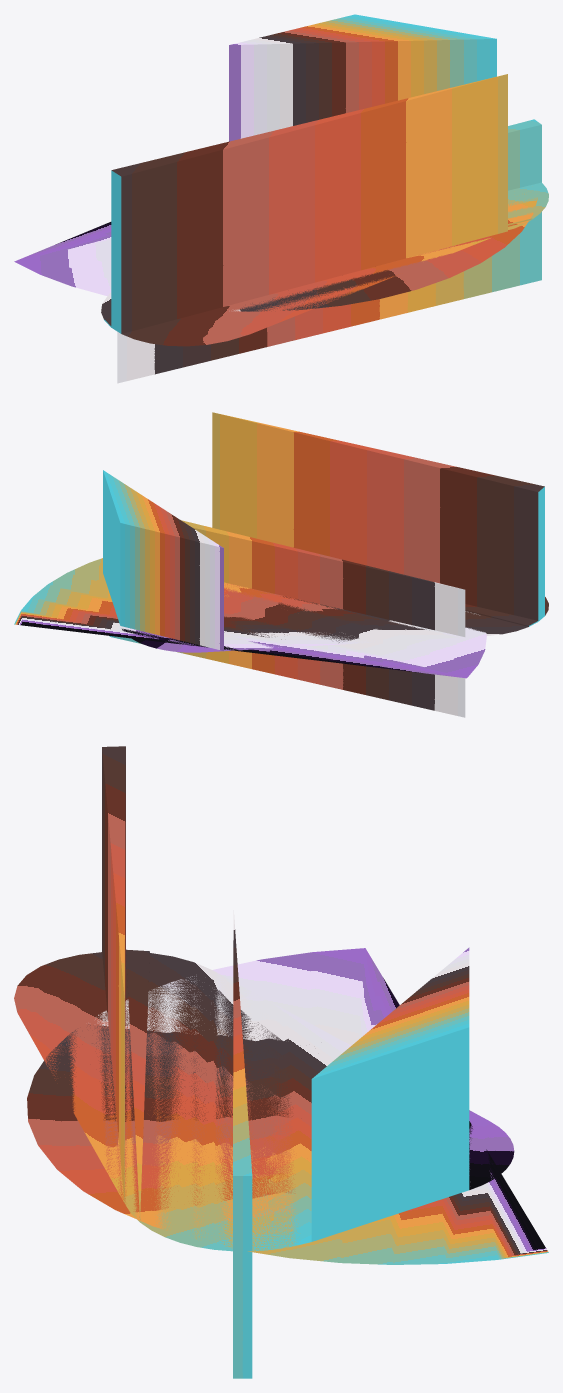
The picture shows the model from 3 angles, top to bottom: view 1: azimuth 30°, elevation 25°; view 2: azimuth 150°, elevation 25°; view 3: azimuth 270°, elevation 25°; orthographic projection. The views are drawn at different scales.
Parts seen in each view (by area): view 1: shape2, shape1; view 2: shape2, shape1; view 3: shape2, shape1.
Boxes of the visible parts, <box> form: shape2: <box>101,14,548,383</box>; shape1: <box>14,194,537,311</box>; shape2: <box>103,412,548,717</box>; shape1: <box>14,558,486,678</box>; shape2: <box>14,746,514,1378</box>; shape1: <box>27,948,548,1264</box>.
Bounding box in the file's own units: 1.88 × 0.9176 × 1.34.
1 material, 1 textured.
